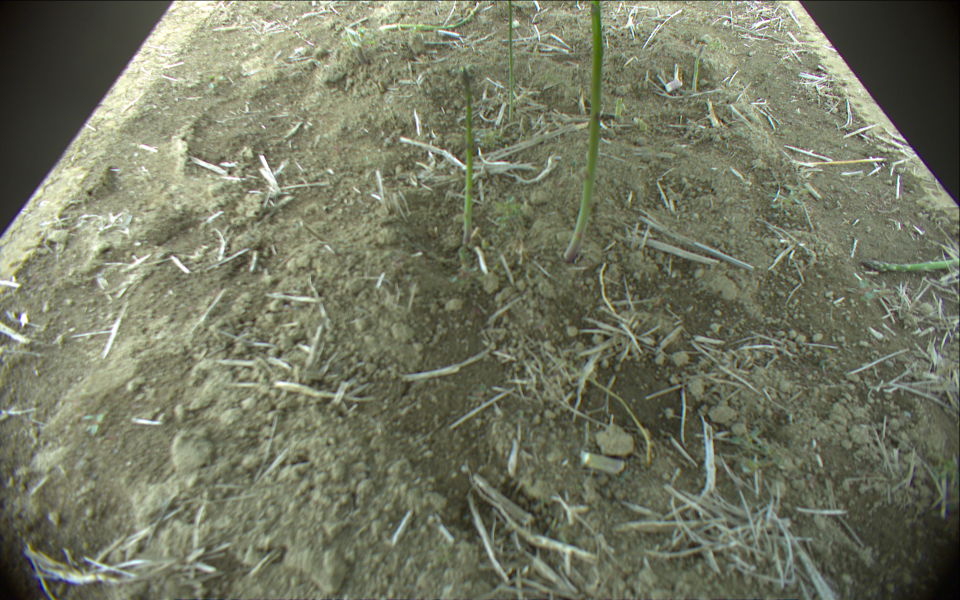aspa: (562, 1, 605, 261), (378, 1, 475, 33), (457, 63, 471, 249), (860, 252, 960, 276), (688, 39, 706, 101), (505, 1, 514, 122)
